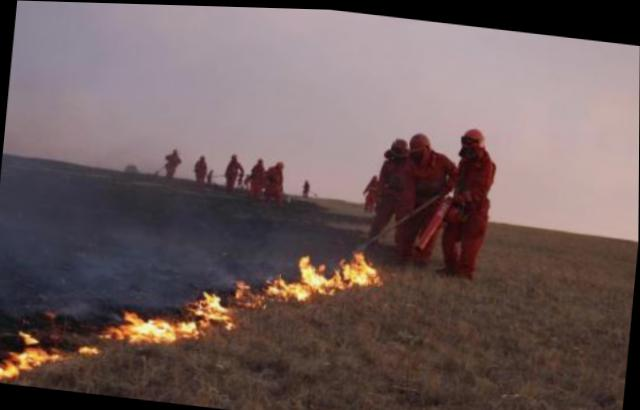fire: (106, 223, 383, 365), (0, 323, 97, 384)
